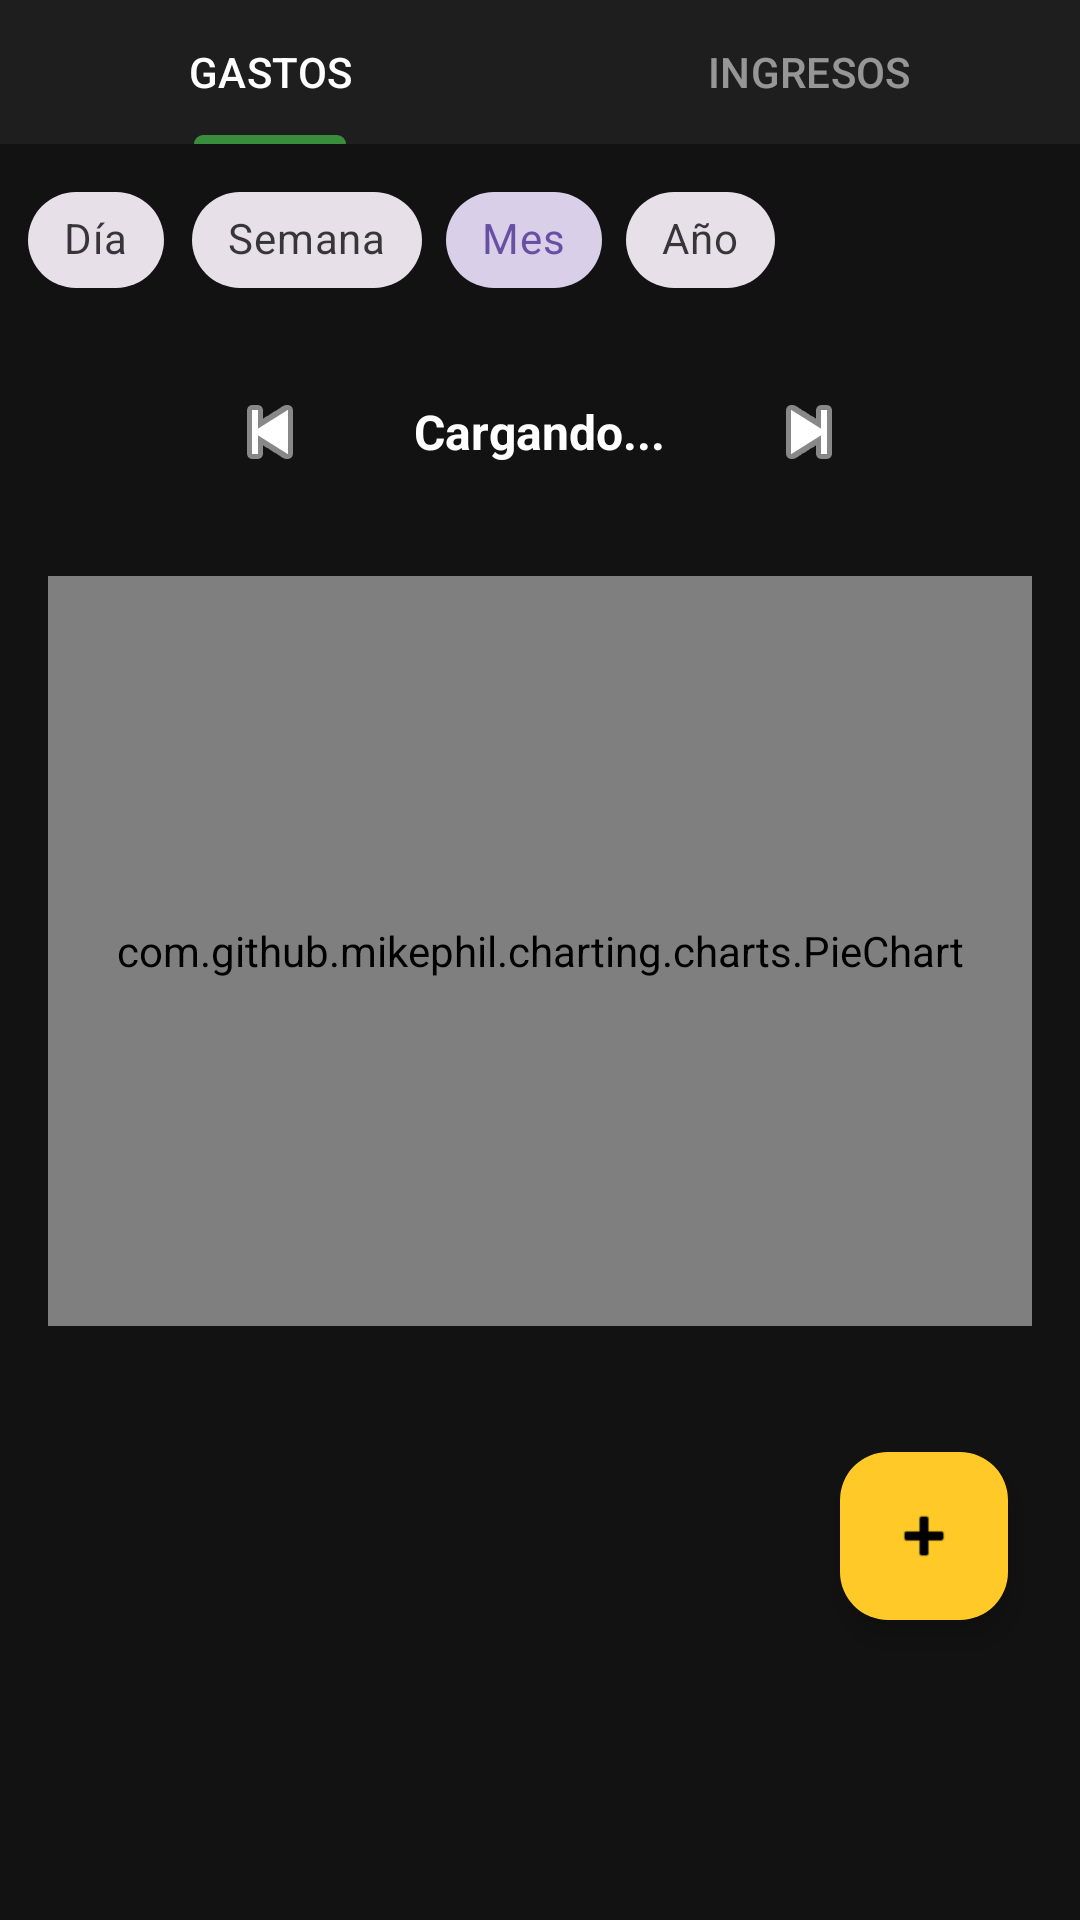

Where to tap for icons on this 1080w x 1920h app screen, as (x=x, y=y):
add: (x=924, y=1536)
next: (x=809, y=432)
previous: (x=270, y=432)
